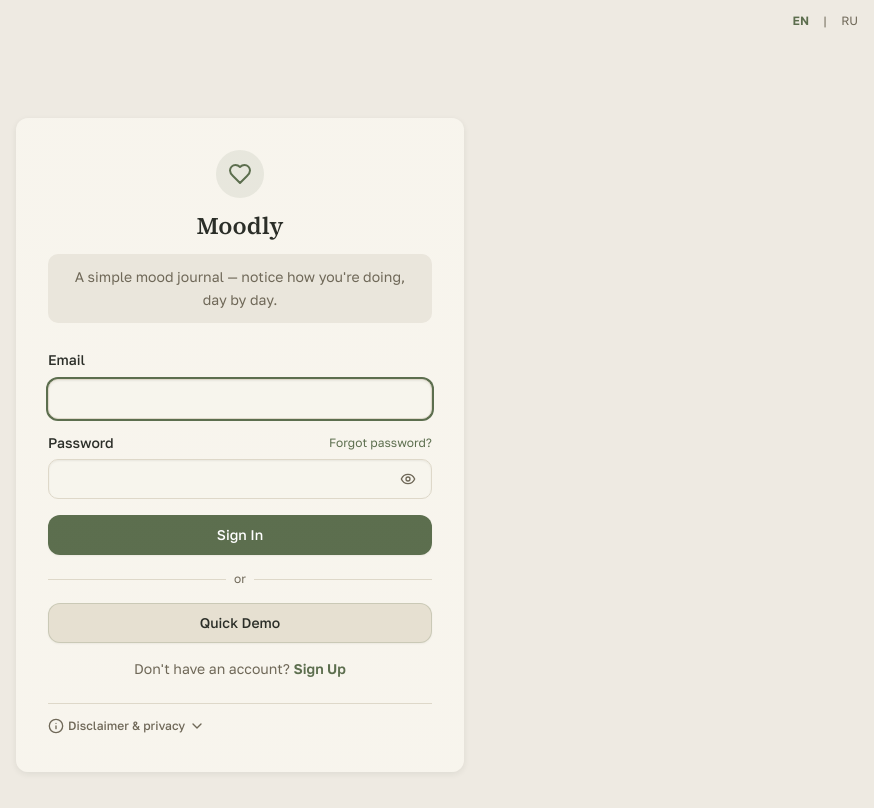
Test case: LoginPage › shows error message on failure
Type "bad@example.com" into the field labelled "Email" at (240, 399), box x1=48 y1=379 x2=432 y2=419
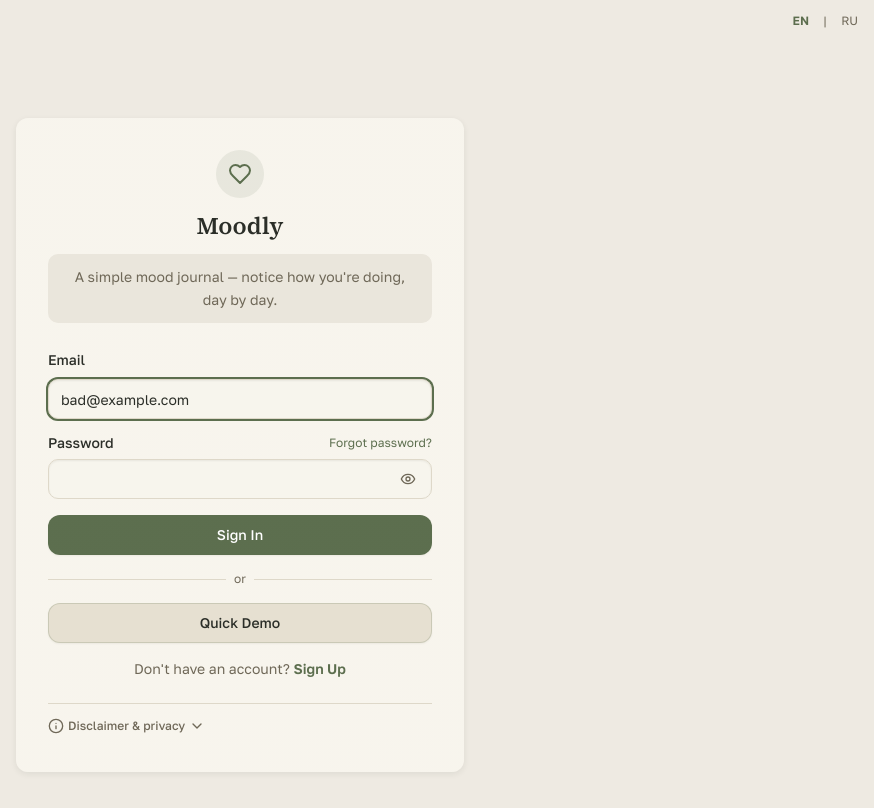
Type "wrong" into the password field labelled "Password" at (240, 479), box x1=48 y1=459 x2=432 y2=499
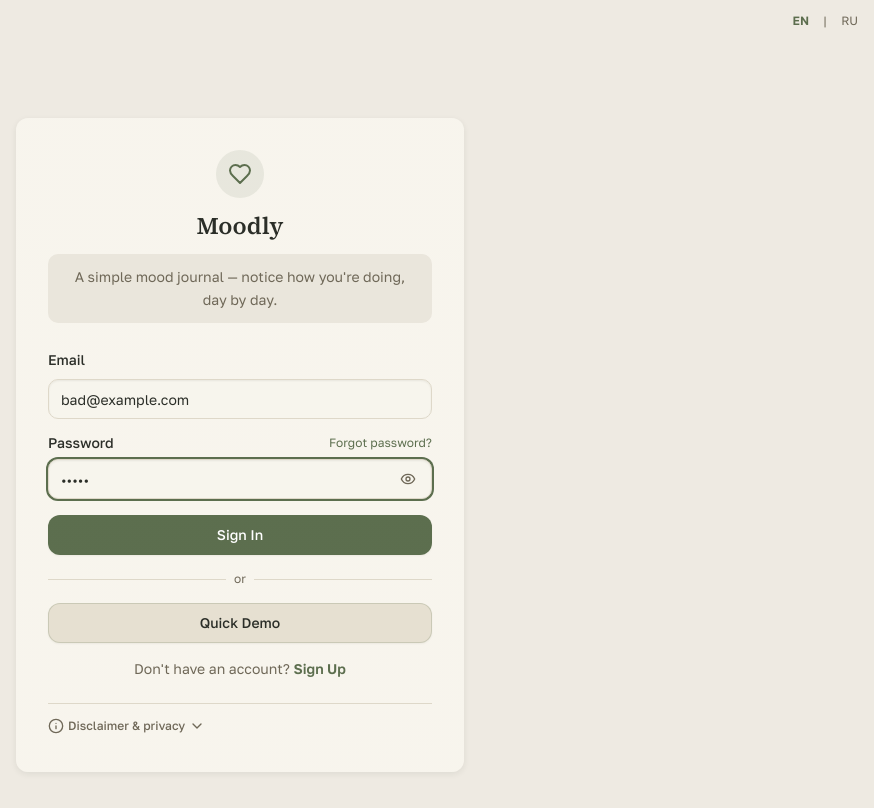
Click the button "Sign In" at (240, 535), box x1=48 y1=515 x2=432 y2=555
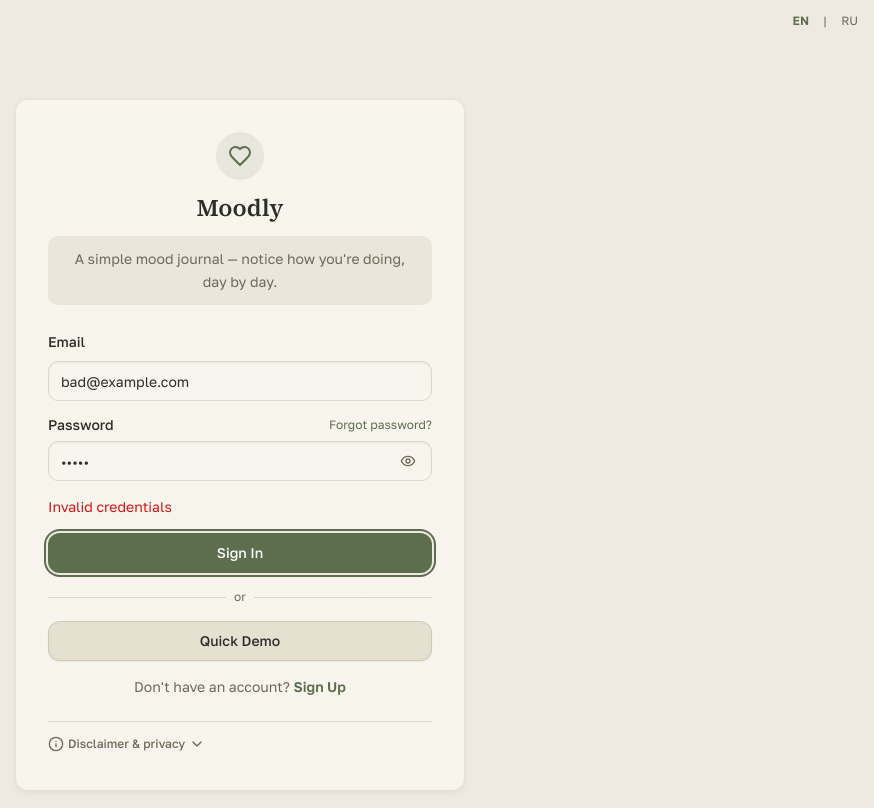
Now the text "Invalid credentials" is shown, box x1=48 y1=498 x2=172 y2=515
